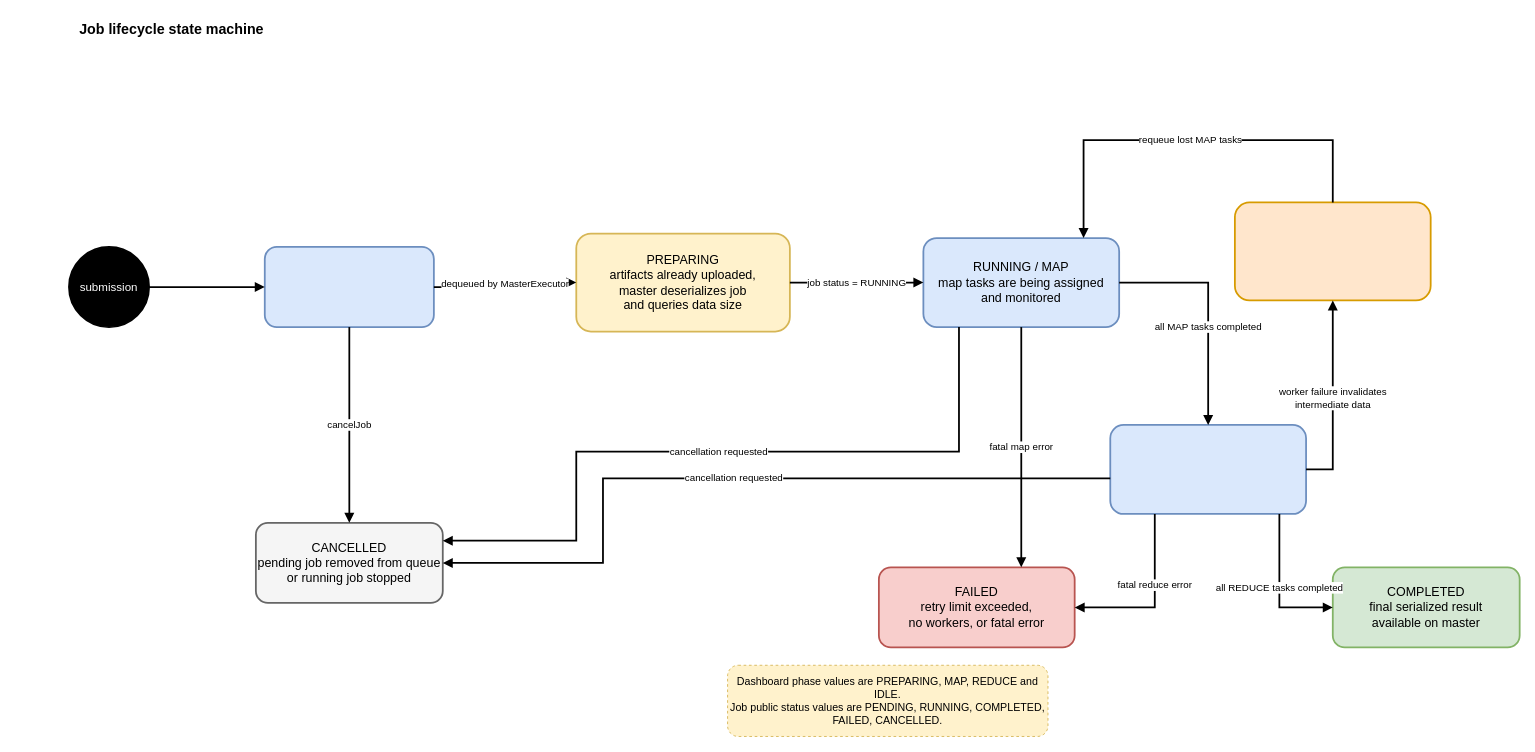
Image size: 1535x752. Some labels were removed from this diagram. Each missing label, with the centre of its shape:
"MAP REPLAY REQUIRED lost intermediate data after worker failure" belongs at (x=1332, y=251).
"PENDING job accepted and queued" belongs at (x=348, y=287).
"RUNNING / REDUCE reduce tasks are being assigned and monitored" belongs at (x=1208, y=469).
